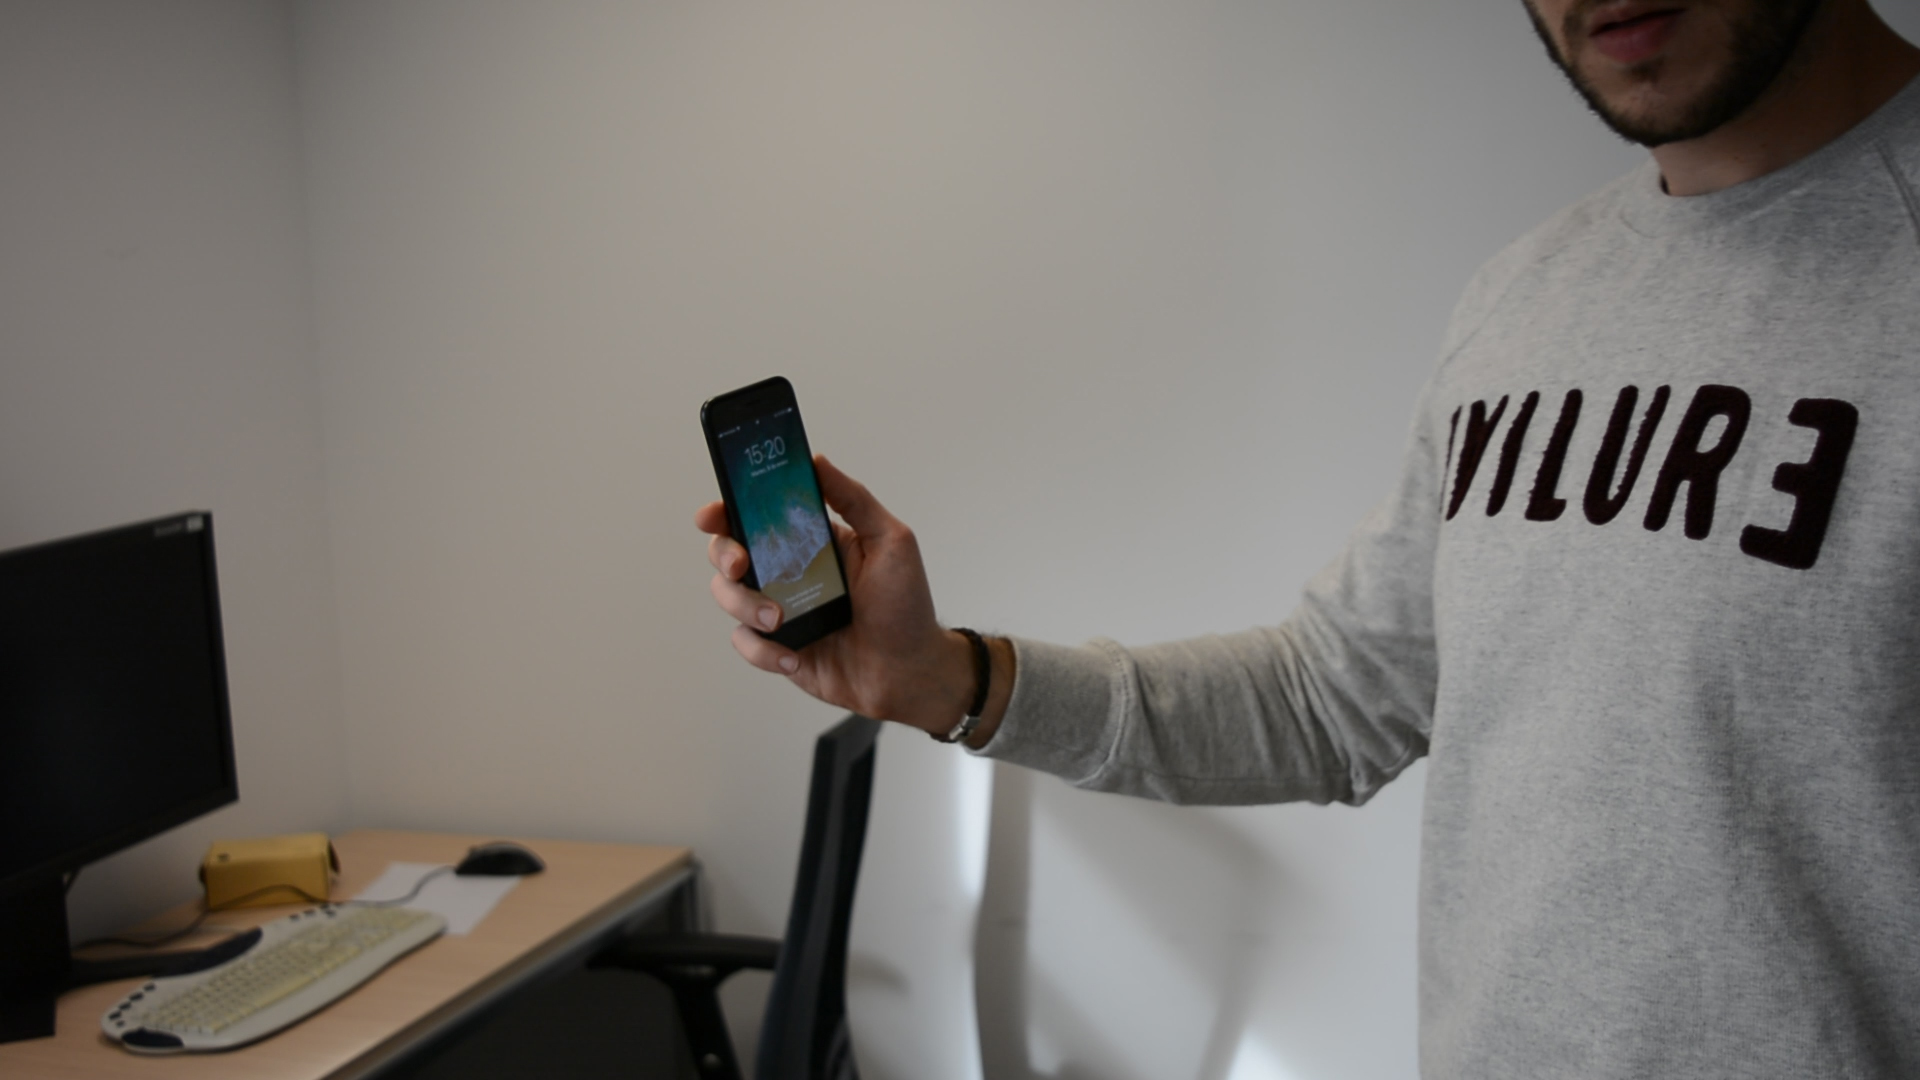smartphone: (699, 375, 855, 655)
